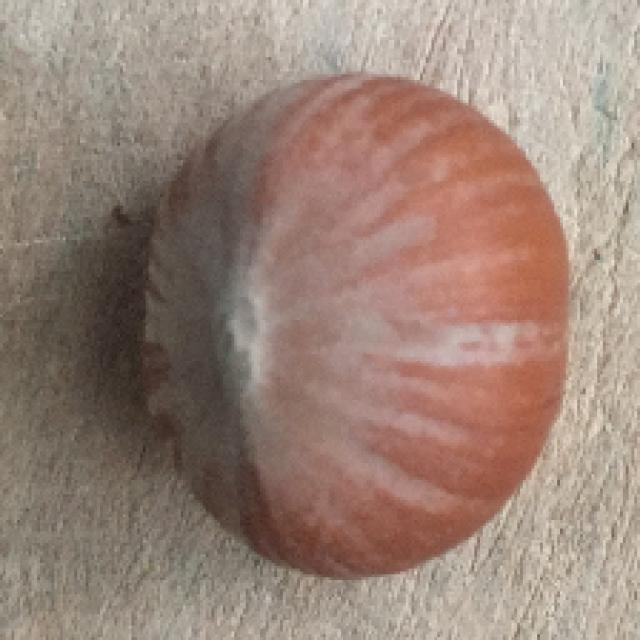QualityHazelnut: (144, 69, 572, 581)
